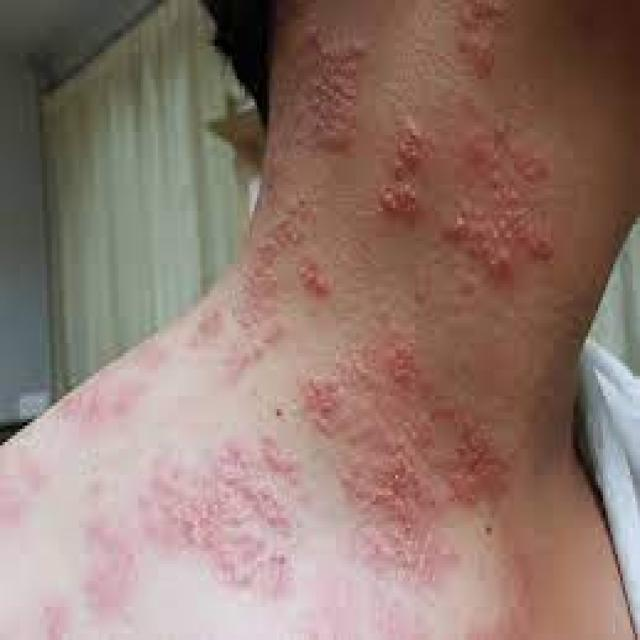Shingles: (186, 34, 384, 376), (293, 336, 518, 598), (38, 440, 301, 639), (376, 106, 561, 276), (449, 0, 515, 76)
